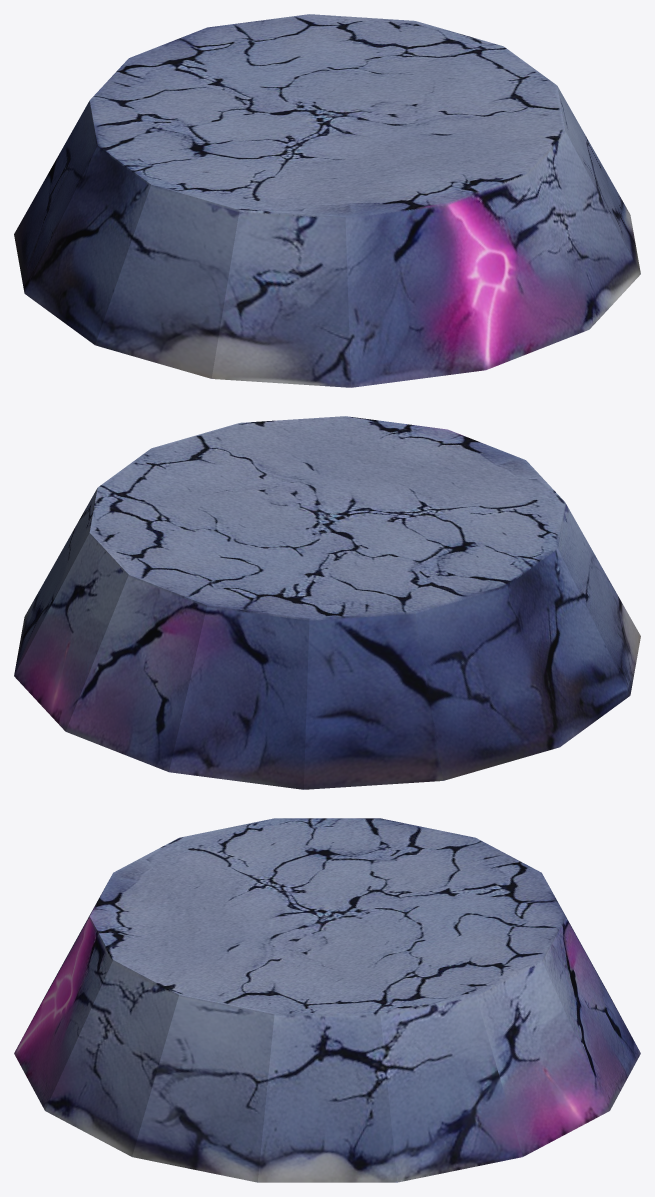
File: shore-stone-14-texture-wrap-2026-05-16T01-26-54-405Z.glb
The picture shows the model from 3 angles, top to bottom: view 1: azimuth 30°, elevation 25°; view 2: azimuth 150°, elevation 25°; view 3: azimuth 270°, elevation 25°; orthographic projection.
Visible parts, largest first — view 1: GLTF; view 2: GLTF; view 3: GLTF.
Part boxes in pixels (bbox=[...]): GLTF: bbox=[14, 14, 640, 387]; GLTF: bbox=[14, 416, 640, 789]; GLTF: bbox=[14, 818, 640, 1182].
Size of the model in its own units: 15.57 by 3.86 by 15.97.
Materials: 1 (1 with a texture image).
